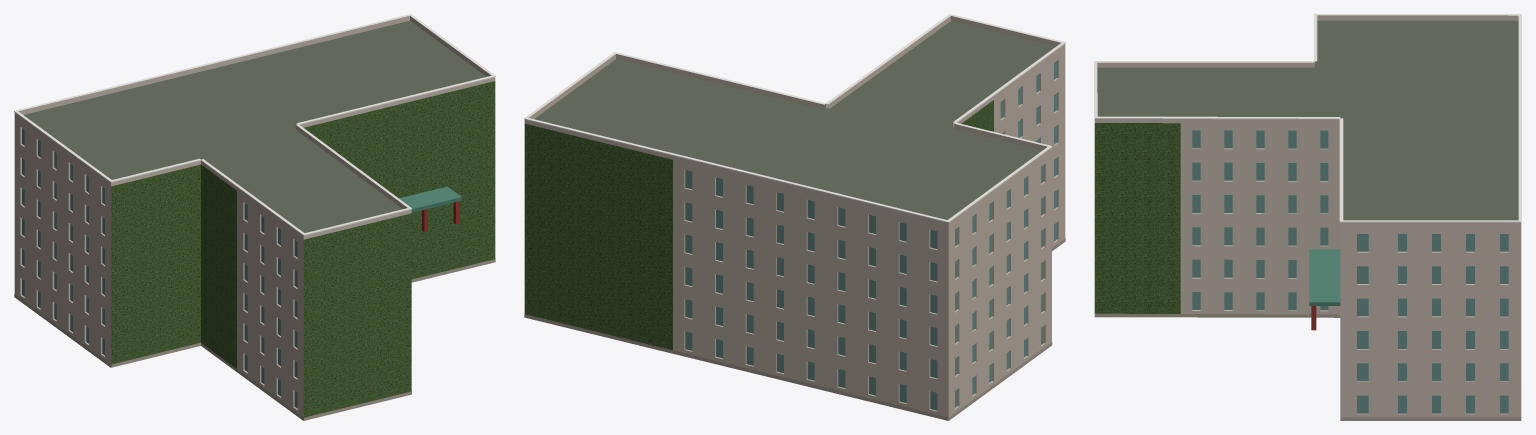
The picture shows the model from 3 angles, left to right: view 1: azimuth 30°, elevation 25°; view 2: azimuth 150°, elevation 25°; view 3: azimuth 270°, elevation 25°; orthographic projection. The views are drawn at different scales.
Visible parts, largest first — view 1: library__ivy, library__roof, library__wall, library__parapet, library__trim, library__glass, library__base, library__canopyTop; view 2: library__wall, library__roof, library__ivy, library__glass, library__parapet, library__trim, library__base; view 3: library__wall, library__roof, library__ivy, library__glass, library__parapet, library__trim, library__base, library__canopyTop.
Boxes of the visible parts, bbox=[...] form: library__ivy: bbox=[111, 81, 495, 420]; library__roof: bbox=[23, 20, 486, 232]; library__wall: bbox=[14, 116, 303, 420]; library__parapet: bbox=[14, 16, 495, 239]; library__trim: bbox=[14, 14, 495, 235]; library__glass: bbox=[22, 128, 297, 408]; library__base: bbox=[14, 259, 495, 420]; library__canopyTop: bbox=[399, 186, 461, 208]; library__wall: bbox=[673, 48, 1065, 420]; library__roof: bbox=[534, 21, 1055, 219]; library__ivy: bbox=[524, 100, 993, 350]; library__glass: bbox=[685, 61, 1056, 410]; library__parapet: bbox=[524, 16, 1065, 226]; library__trim: bbox=[524, 14, 1065, 222]; library__base: bbox=[524, 238, 1065, 420]; library__wall: bbox=[1180, 123, 1521, 417]; library__roof: bbox=[1097, 20, 1518, 220]; library__ivy: bbox=[1094, 123, 1180, 313]; library__glass: bbox=[1192, 130, 1508, 413]; library__parapet: bbox=[1094, 15, 1521, 226]; library__trim: bbox=[1094, 14, 1521, 222]; library__base: bbox=[1094, 313, 1521, 420]; library__canopyTop: bbox=[1309, 249, 1340, 302].
Bounding box in the file's own units: 50.96 × 22.8 × 44.37.
11 materials, 1 textured.
